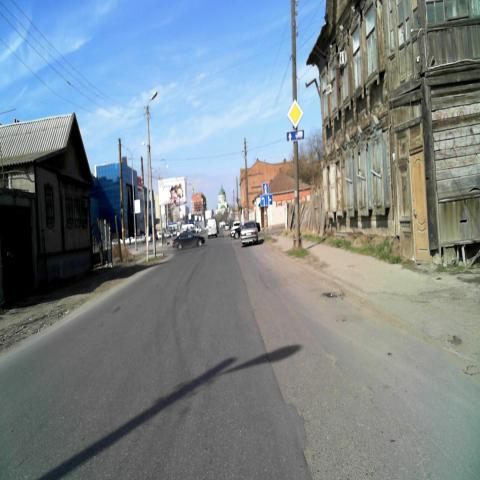6_15_1: (286, 130, 304, 142)
